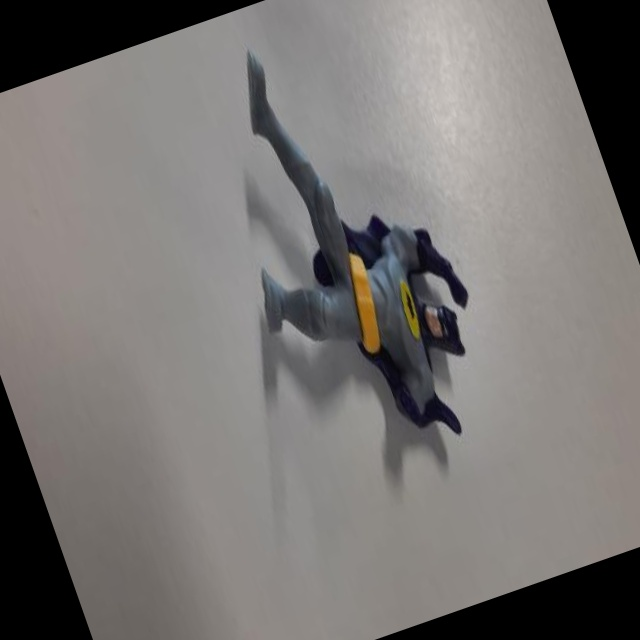Batman: (174, 4, 512, 485)
